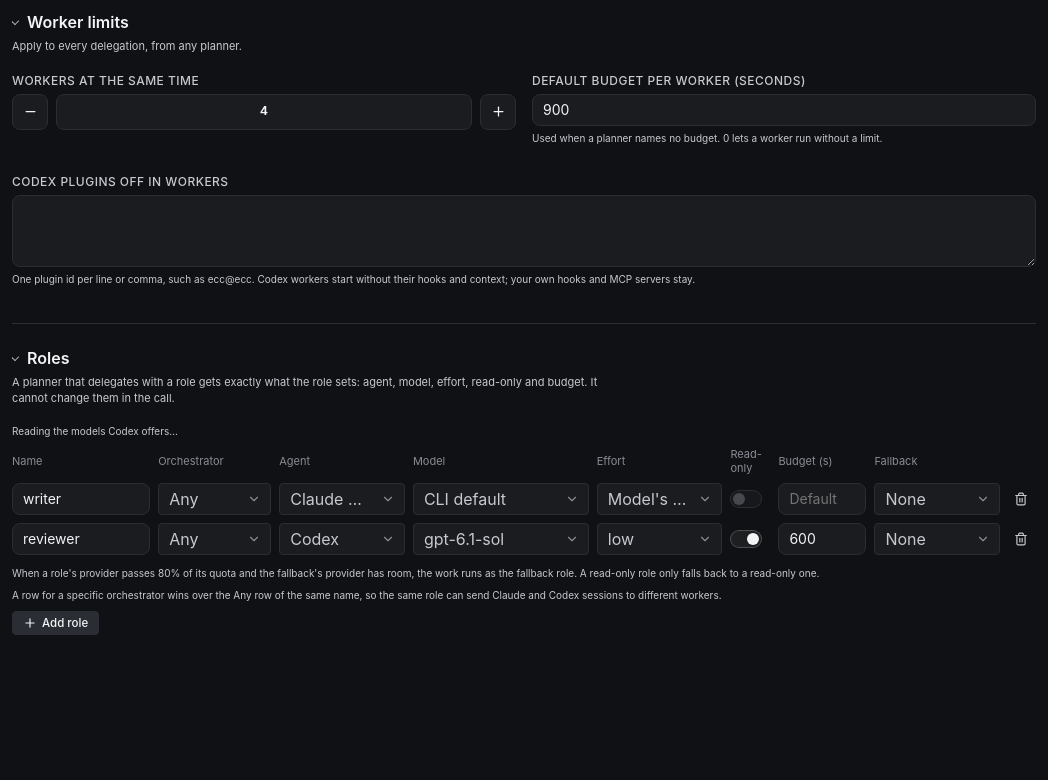
OrchestrationPage › does not save a rename that takes the name of another role
Replace the text in the field named "Name of role writer" with "reviewer" at (81, 498), box 12,482 -> 150,514
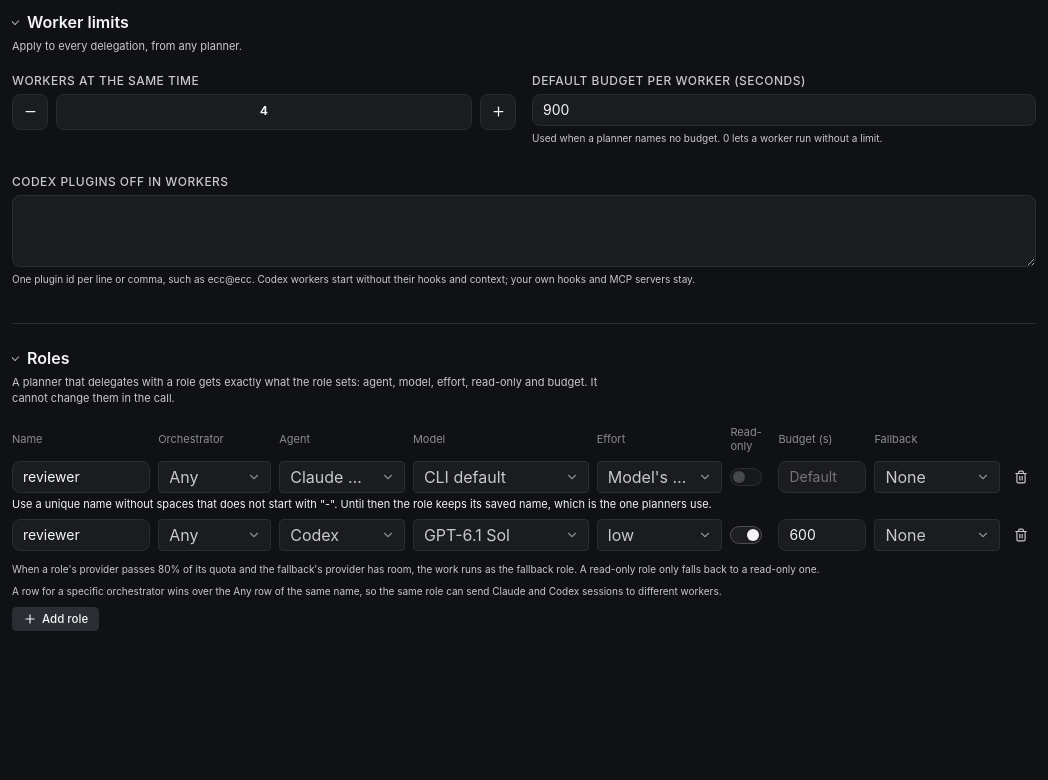
Now the text "Use a unique name" is shown, box 12,496 -> 712,510
